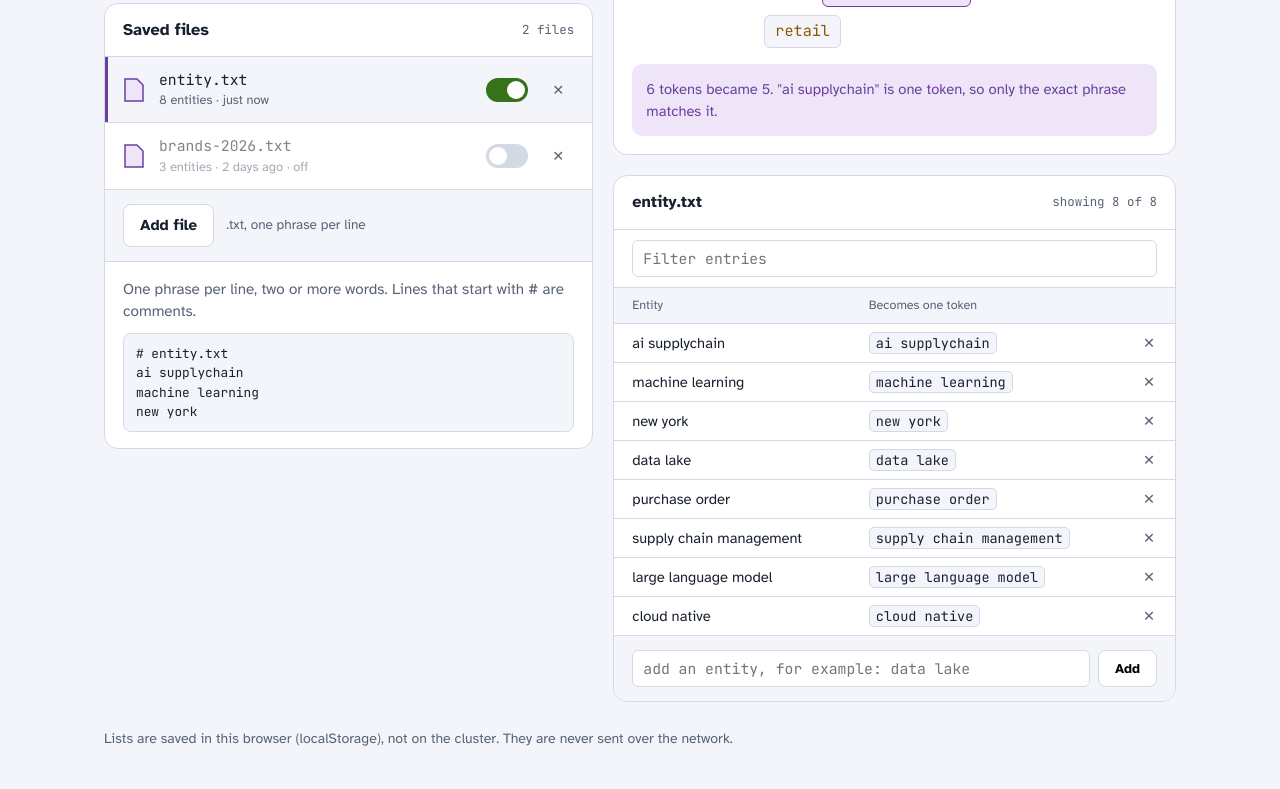
Word lists page › R2.6 adds an entry after checking it; a bad entry keeps the typed text
The image size is (1280, 789).
(page scrolled)
Type "ai" into the field named "New entry for entity.txt" at point(861, 669), box [632,650,1090,687]
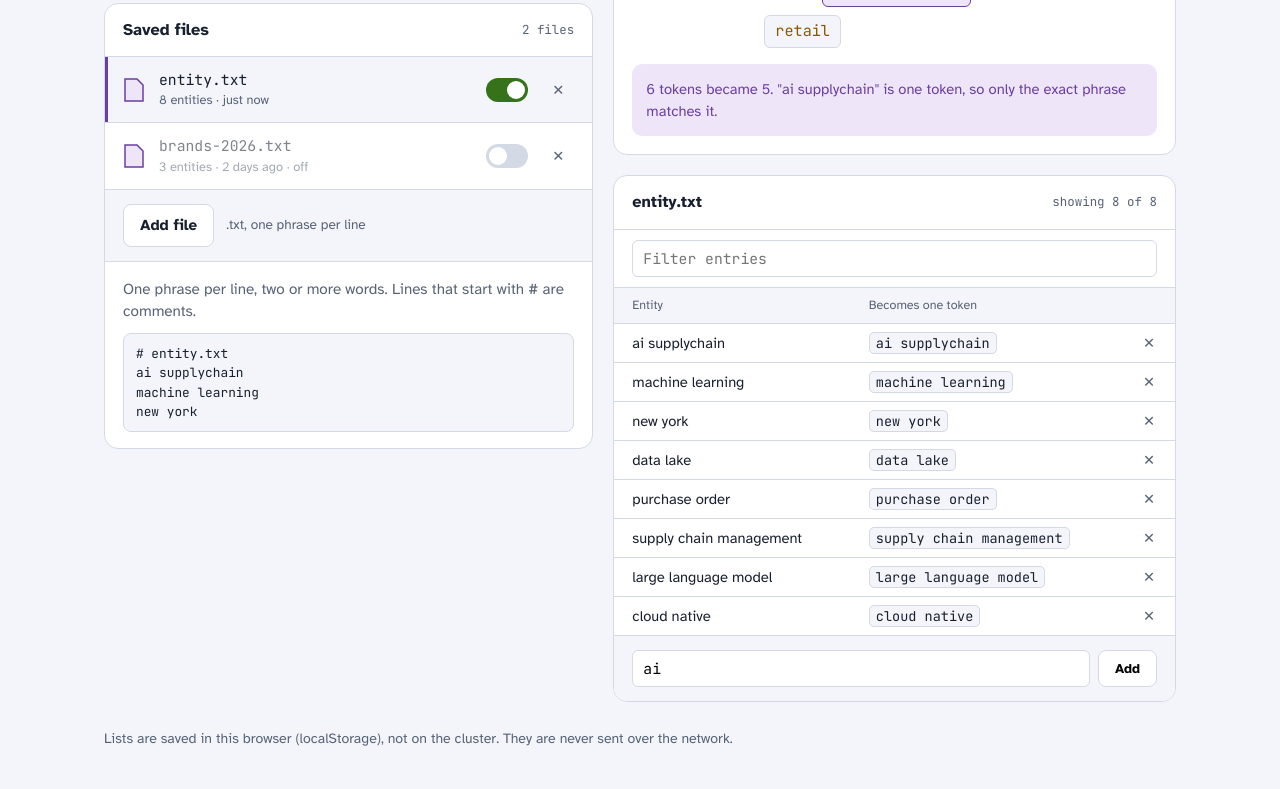
Click the button "Add" at point(1127, 669), box [1098,650,1157,687]
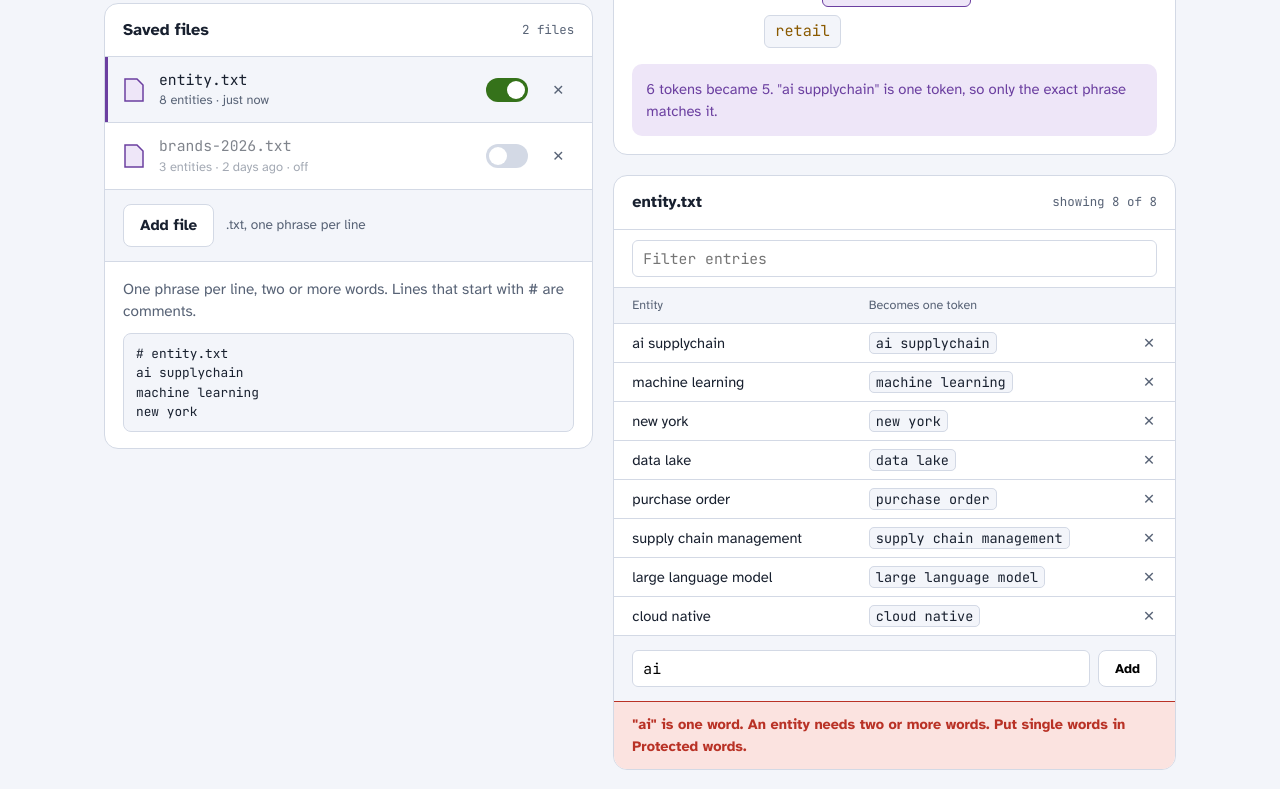
Expected: the 2nd message shows "\"ai\" is one word.", [632,715,1125,755]
Replace the text in the field named "New entry for entity.txt" with "Data Mesh" at point(861, 669), box [632,650,1090,687]
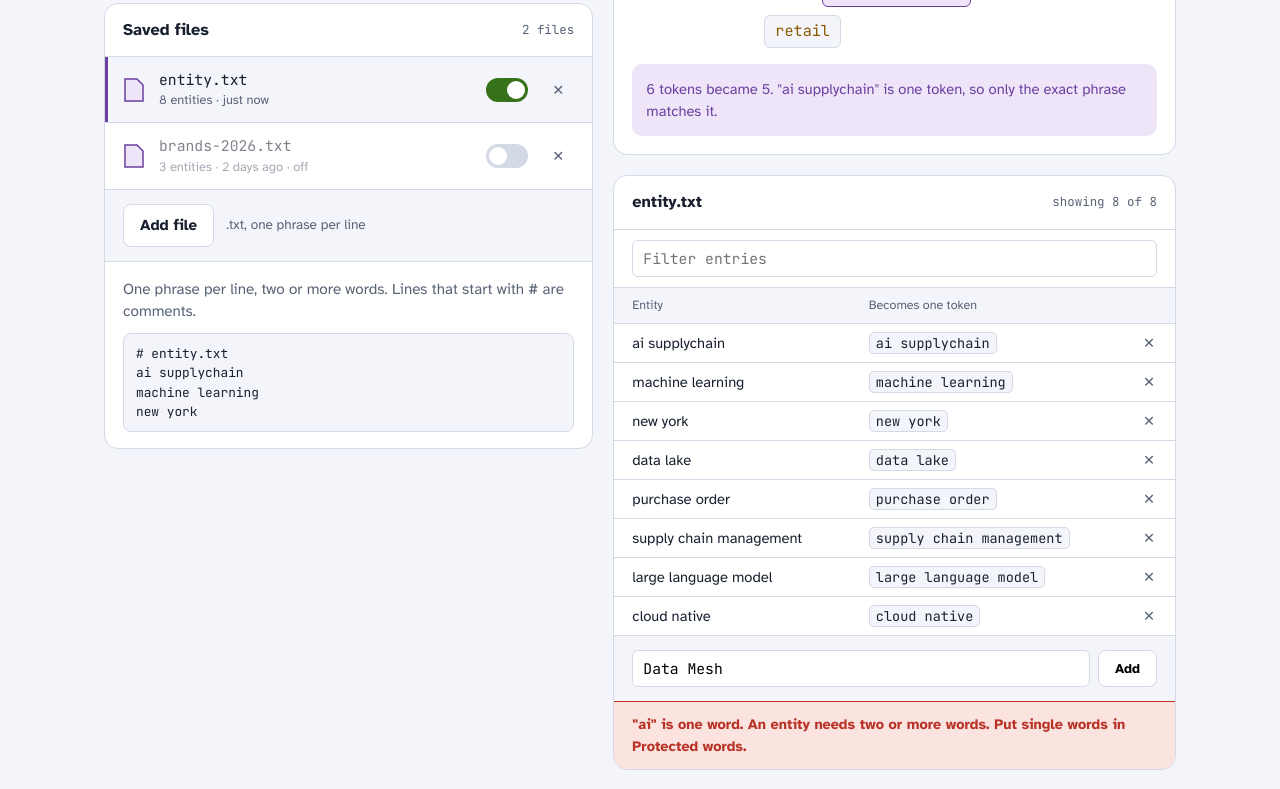
Press Enter in the field named "New entry for entity.txt", box [632,650,1090,687]
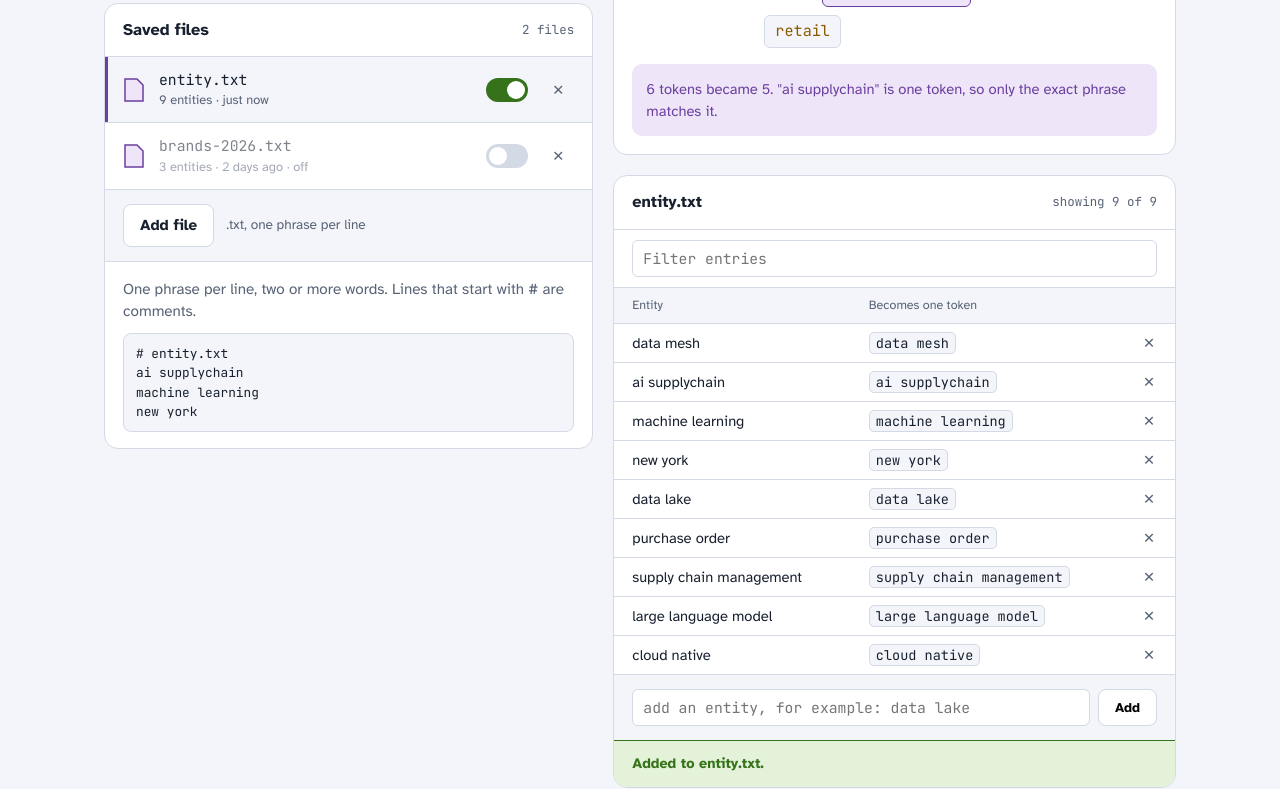
Expected: the text "Added to entity.txt." is shown, [632,754,764,772]
Expected: the row "data mesh data mesh ✕" is shown, [614,323,1175,362]
Expected: the field named "New entry for entity.txt" is empty, [632,689,1090,726]
